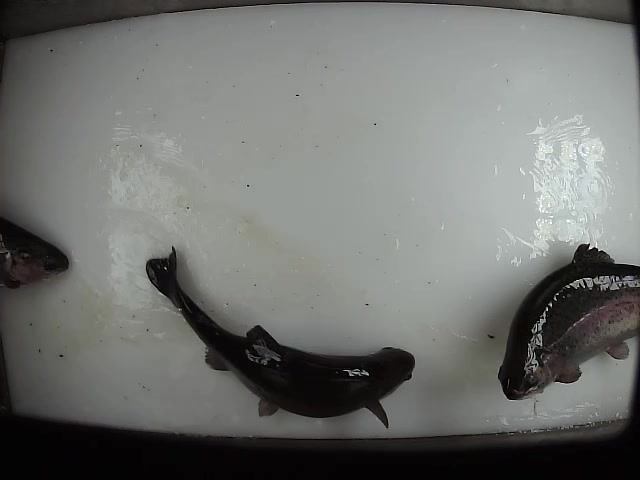fish: (144, 240, 417, 432), (497, 243, 640, 402), (1, 212, 73, 290)
